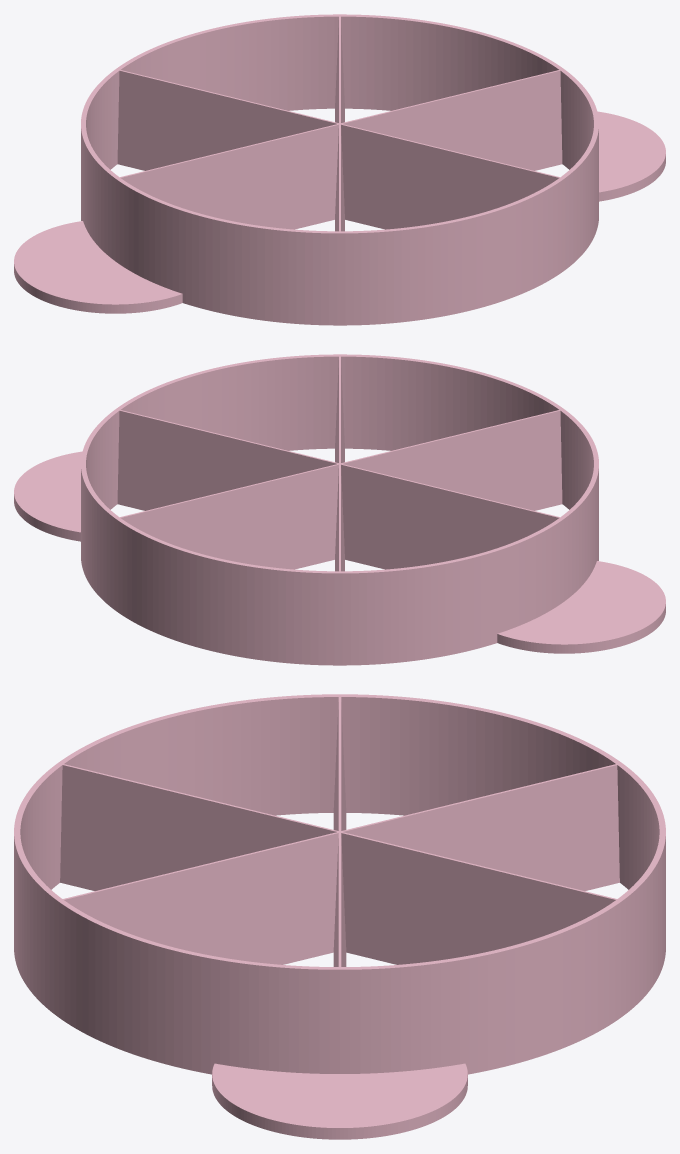
File: cortador-personalizable.glb
3 views of the same model, one above another, from view 1: azimuth 30°, elevation 25°; view 2: azimuth 150°, elevation 25°; view 3: azimuth 270°, elevation 25° (orthographic). The views are drawn at different scales.
Visible parts, largest first — view 1: pieza; view 2: pieza; view 3: pieza.
Boxes of the visible parts, x1,y1,x2,y2 form: pieza: (14, 14, 665, 325); pieza: (14, 354, 665, 665); pieza: (14, 694, 665, 1139).
Bounding box in the file's own units: 0.2138 × 0.0301 × 0.1536.
